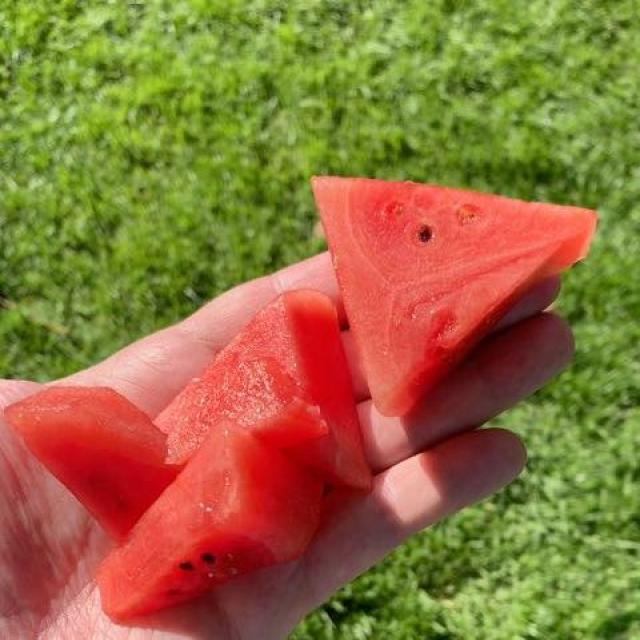watermelon-fresh: (2, 172, 610, 637)
